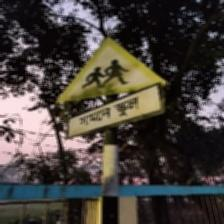School-in-front: (56, 36, 168, 139)
